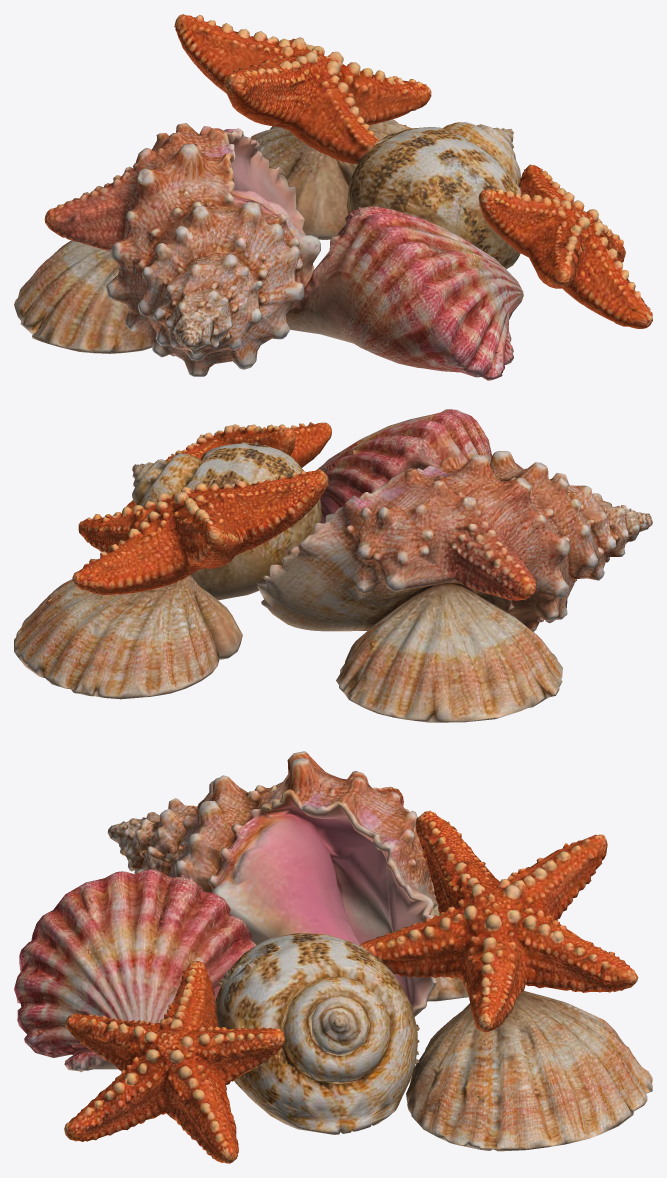
The model's file is SM_Shells_Cluster.glb.
The picture shows the model from 3 angles, top to bottom: view 1: azimuth 30°, elevation 25°; view 2: azimuth 150°, elevation 25°; view 3: azimuth 270°, elevation 25°; orthographic projection. The views are drawn at different scales.
Parts seen in each view (by area): view 1: tripo_node_8857ab69-490c-416c-b842-0f672d296725; view 2: tripo_node_8857ab69-490c-416c-b842-0f672d296725; view 3: tripo_node_8857ab69-490c-416c-b842-0f672d296725.
Part boxes in pixels (bbox=[...]): tripo_node_8857ab69-490c-416c-b842-0f672d296725: bbox=[14, 14, 652, 380]; tripo_node_8857ab69-490c-416c-b842-0f672d296725: bbox=[14, 409, 652, 722]; tripo_node_8857ab69-490c-416c-b842-0f672d296725: bbox=[14, 751, 652, 1163].
Size of the model in its own units: 0.9779 by 0.3516 by 0.9785.
1 material, 1 textured.
